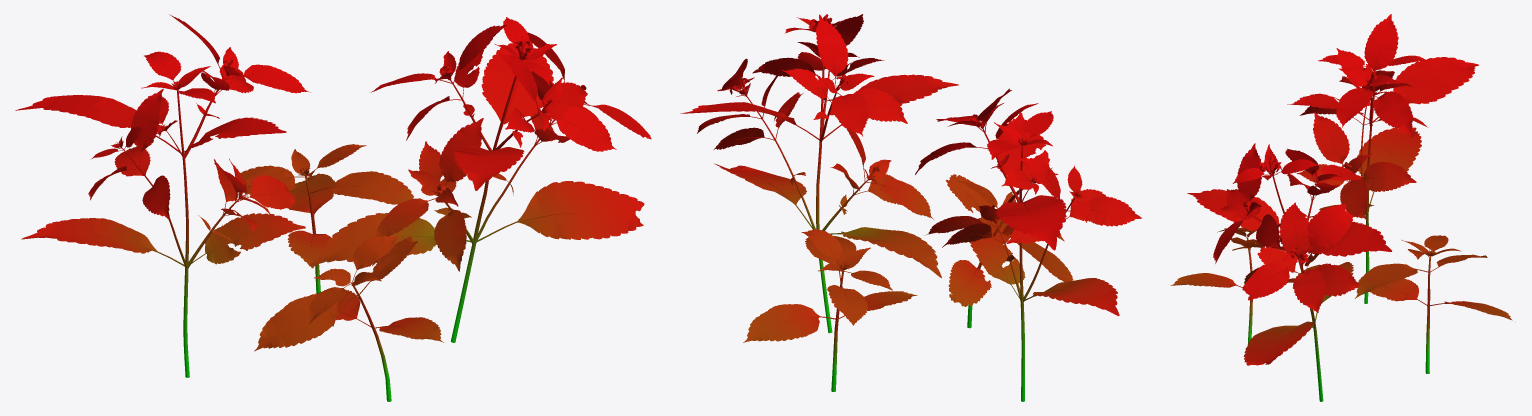
Rendered from Common Hemp Nettle_LOD1_Var6_xh1kdfbqx.fbx.
3 renders of one model, left to right at view 1: azimuth 30°, elevation 25°; view 2: azimuth 150°, elevation 25°; view 3: azimuth 270°, elevation 25°, orthographic. The views are drawn at different scales.
Visible parts, largest first — view 1: _882c_Var6_LOD1; view 2: _882c_Var6_LOD1; view 3: _882c_Var6_LOD1.
Boxes of the visible parts, box(x1,y1,x2,y2) form: _882c_Var6_LOD1: box(15, 14, 651, 401); _882c_Var6_LOD1: box(680, 14, 1141, 401); _882c_Var6_LOD1: box(1170, 14, 1512, 401).
Size of the model in its own units: 87.18 by 55.56 by 60.24.
